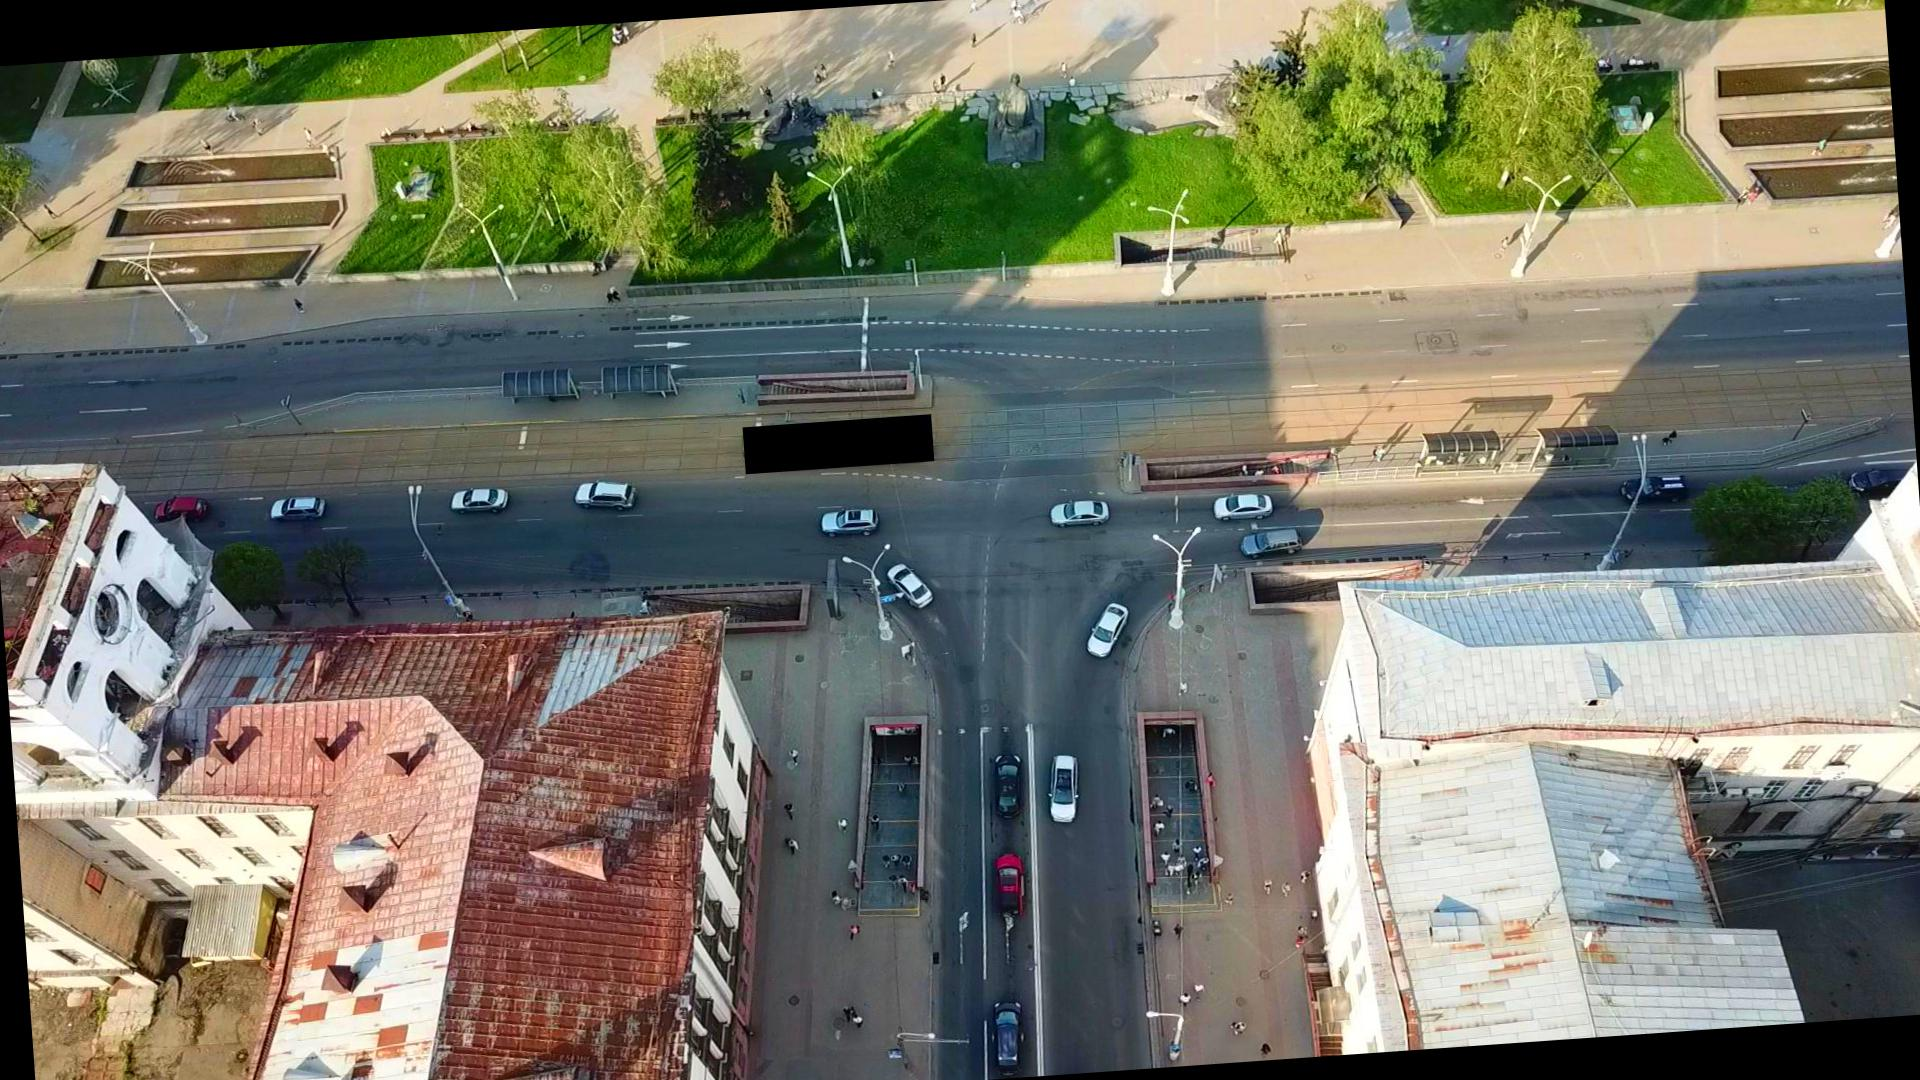vehicle: (1084, 601, 1134, 658), (1047, 752, 1084, 823), (570, 477, 640, 514), (886, 559, 935, 611), (1619, 469, 1691, 504), (992, 998, 1026, 1068), (992, 752, 1027, 818), (992, 851, 1027, 916), (1240, 526, 1304, 559), (1847, 465, 1917, 496), (819, 505, 881, 538), (1212, 491, 1274, 522), (152, 492, 210, 525), (1048, 497, 1110, 527), (448, 485, 512, 513), (266, 493, 327, 521)
